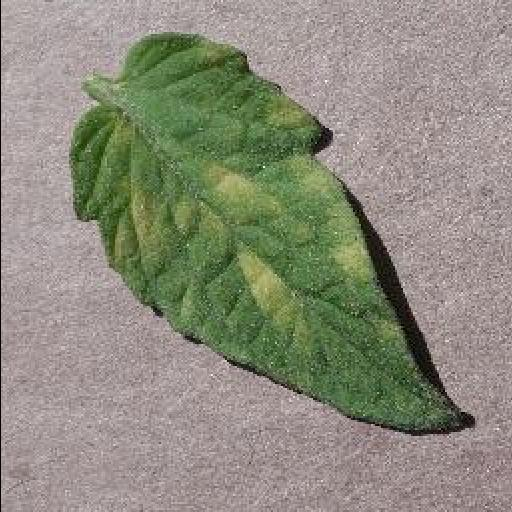disease_tomato: (70, 32, 474, 434)
